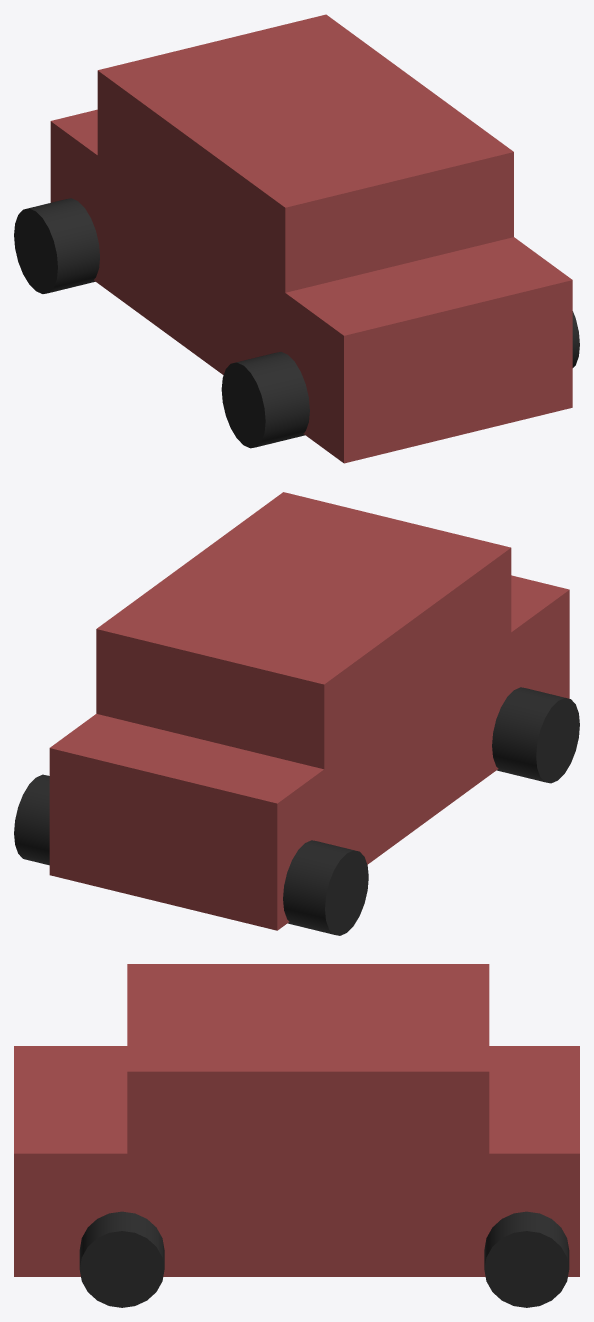
File: SM_Car_Prototype.fbx
3 renders of one model, top to bottom at view 1: azimuth 30°, elevation 25°; view 2: azimuth 150°, elevation 25°; view 3: azimuth 270°, elevation 25°, orthographic. The views are drawn at different scales.
Visible parts, largest first — view 1: pCube1, pCylinder1, pCylinder4; view 2: pCube1, pCylinder1, pCylinder4, pCylinder3; view 3: pCube1, pCylinder2, pCylinder3.
Part boxes in pixels (x1=…): pCube1: x1=50, y1=14, x2=572, y2=463; pCylinder1: x1=221, y1=352, x2=309, y2=448; pCylinder4: x1=14, y1=198, x2=99, y2=293; pCube1: x1=49, y1=492, x2=569, y2=930; pCylinder1: x1=492, y1=687, x2=579, y2=783; pCylinder4: x1=283, y1=840, x2=368, y2=935; pCylinder3: x1=14, y1=774, x2=49, y2=865; pCube1: x1=14, y1=964, x2=579, y2=1276; pCylinder2: x1=79, y1=1211, x2=164, y2=1307; pCylinder3: x1=484, y1=1211, x2=569, y2=1307.
Bounding box in the file's own units: 247 × 169 × 400.
